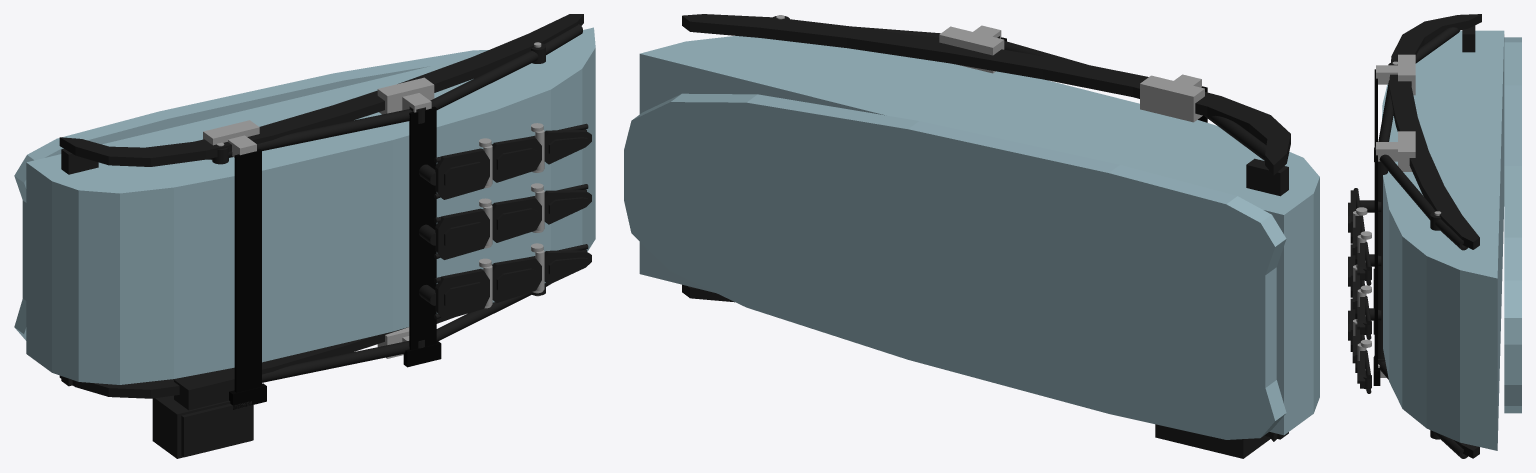
The model's file is framecue-assembly.obj.
The picture shows the model from 3 angles, left to right: view 1: azimuth 30°, elevation 25°; view 2: azimuth 150°, elevation 25°; view 3: azimuth 270°, elevation 25°; orthographic projection. The views are drawn at different scales.
Visible parts, largest first — view 1: Reference shoe upper envelope_body, Left side frame rail_body, Reference outsole envelope_body, Rear 12 mm webbing_body, Front 12 mm webbing_body, Controller lid_body, Right side frame rail_body, Controller enclosure lower_body, Frame_Conduit_1_1, Controller mounting bracket_body, Frame_Conduit_-1_1, Claw_Left_Finger_1 (+21 smaller); view 2: Reference outsole envelope_body, Reference shoe upper envelope_body, Left side frame rail_body, Rail slider clamp_body:1, Controller enclosure lower_body, Raised heel bridge_body, Rail slider clamp_body:3, Frame_Conduit_1_0; view 3: Reference shoe upper envelope_body, Reference outsole envelope_body, Left side frame rail_body, Concealed_Feed_Crossmember, Front 12 mm webbing_body, Frame_Conduit_1_2, Rail slider clamp_body:3, Rail slider clamp_body:1, Frame_Conduit_1_0, Frame_Conduit_1_1, Raised strap anchor_body:3, Raised heel bridge_body (+13 smaller).
Boxes of the visible parts, x1,y1,x2,y2 form: Reference shoe upper envelope_body: [26, 27, 595, 384]; Left side frame rail_body: [59, 14, 583, 166]; Reference outsole envelope_body: [14, 50, 488, 340]; Rear 12 mm webbing_body: [234, 149, 261, 392]; Front 12 mm webbing_body: [409, 106, 436, 349]; Controller lid_body: [181, 401, 251, 457]; Right side frame rail_body: [59, 317, 453, 398]; Controller enclosure lower_body: [152, 395, 253, 458]; Frame_Conduit_1_1: [228, 109, 412, 157]; Controller mounting bracket_body: [174, 368, 234, 410]; Frame_Conduit_-1_1: [262, 341, 409, 382]; Claw_Left_Finger_1: [435, 268, 489, 320]; Reference outsole envelope_body: [624, 93, 1286, 439]; Reference shoe upper envelope_body: [639, 36, 1319, 435]; Left side frame rail_body: [682, 14, 1290, 175]; Rail slider clamp_body:1: [1140, 75, 1204, 122]; Controller enclosure lower_body: [1155, 424, 1270, 458]; Raised heel bridge_body: [1246, 158, 1288, 439]; Rail slider clamp_body:3: [939, 26, 1004, 73]; Frame_Conduit_1_0: [1205, 116, 1266, 160]; Reference shoe upper envelope_body: [1382, 30, 1504, 450]; Reference outsole envelope_body: [1504, 37, 1521, 413]; Left side frame rail_body: [1389, 14, 1481, 249]; Concealed_Feed_Crossmember: [1378, 164, 1387, 359]; Front 12 mm webbing_body: [1374, 146, 1377, 369]; Frame_Conduit_1_2: [1379, 154, 1435, 219]; Rail slider clamp_body:3: [1398, 131, 1415, 171]; Rail slider clamp_body:1: [1398, 54, 1415, 95]; Frame_Conduit_1_0: [1415, 27, 1459, 63]; Frame_Conduit_1_1: [1378, 80, 1393, 141]; Raised strap anchor_body:3: [1376, 142, 1397, 161]; Raised heel bridge_body: [1462, 25, 1475, 52].
Size of the model in its own units: 26.6 by 13.5 by 7.86.
